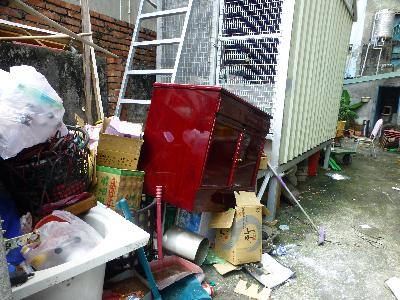box: (214, 190, 263, 266), (96, 119, 145, 171), (96, 165, 144, 218)
bucket: (163, 224, 210, 265)
plastic_bag: (1, 66, 63, 155), (28, 210, 91, 264)
water_tower: (372, 8, 396, 45)
